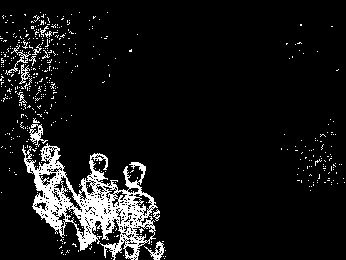person: (116, 160, 163, 259), (44, 170, 86, 259), (80, 154, 120, 247), (23, 123, 52, 178), (35, 148, 68, 193)
